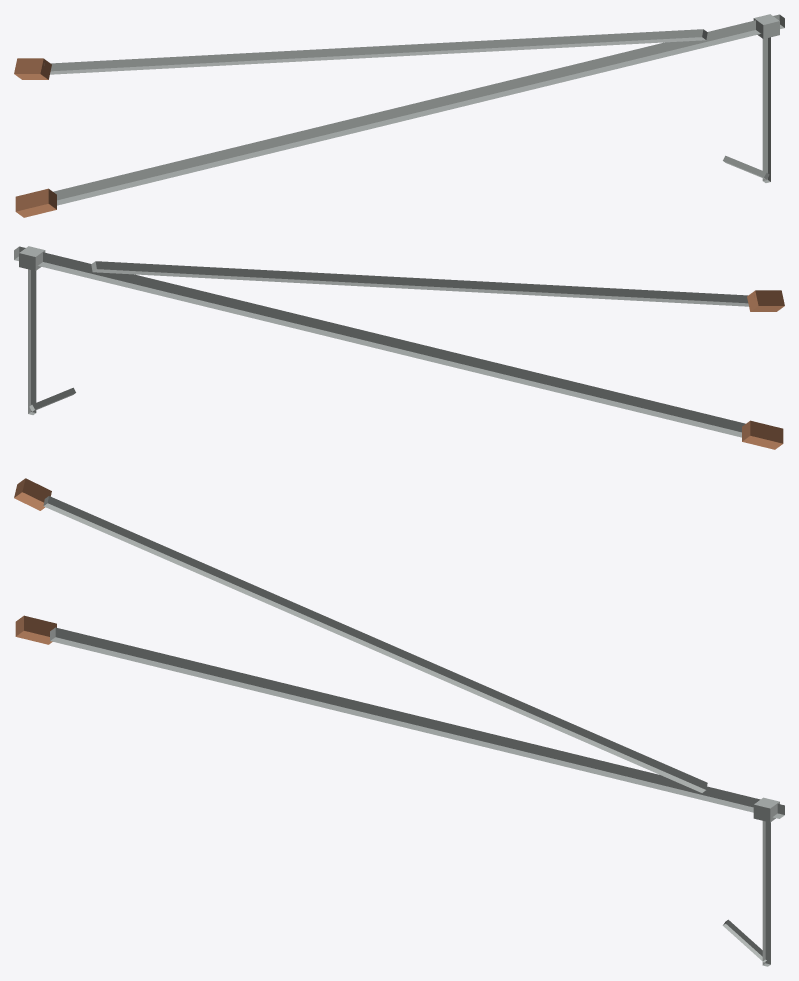
Rendered from trakce_vyloznik.glb.
3 views of the same model, one above another, from view 1: azimuth 30°, elevation 25°; view 2: azimuth 150°, elevation 25°; view 3: azimuth 330°, elevation 25° (orthographic).
Parts seen in each view (by area): view 1: trakce_vyloznik; view 2: trakce_vyloznik; view 3: trakce_vyloznik.
Part boxes in pixels (x1=…): trakce_vyloznik: x1=14, y1=14, x2=784, y2=217; trakce_vyloznik: x1=14, y1=246, x2=784, y2=449; trakce_vyloznik: x1=14, y1=478, x2=784, y2=966.
Bounding box in the file's own units: 7.4 × 2.8 × 0.16.
